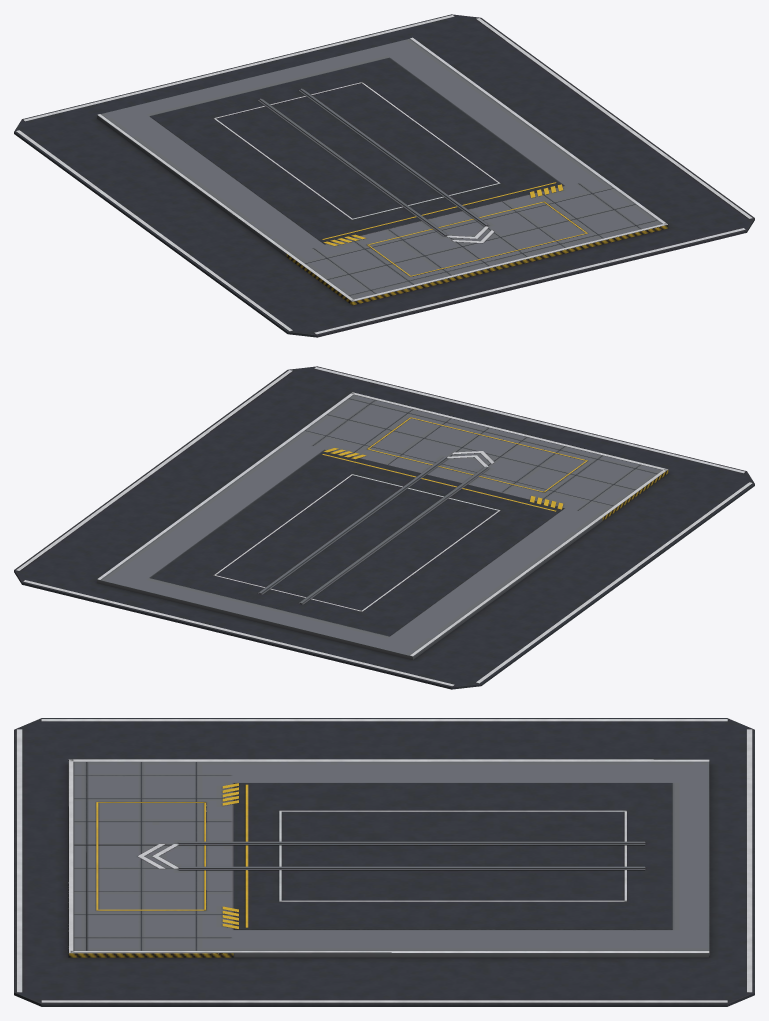
The model's file is 整備庫_44_戰艦庫_地板.glb.
3 views of the same model, one above another, from view 1: azimuth 30°, elevation 25°; view 2: azimuth 150°, elevation 25°; view 3: azimuth 270°, elevation 25° (orthographic). The views are drawn at different scales.
Parts seen in each view (by area): view 1: Hall_floor_bay_Mesh; view 2: Hall_floor_bay_Mesh; view 3: Hall_floor_bay_Mesh.
Part boxes in pixels (<box>): Hall_floor_bay_Mesh: <box>14,14,754,337</box>; Hall_floor_bay_Mesh: <box>14,366,754,689</box>; Hall_floor_bay_Mesh: <box>14,718,754,1006</box>.
Size of the model in its own units: 74 by 1.1 by 81.
Materials: 1 (1 with a texture image).
